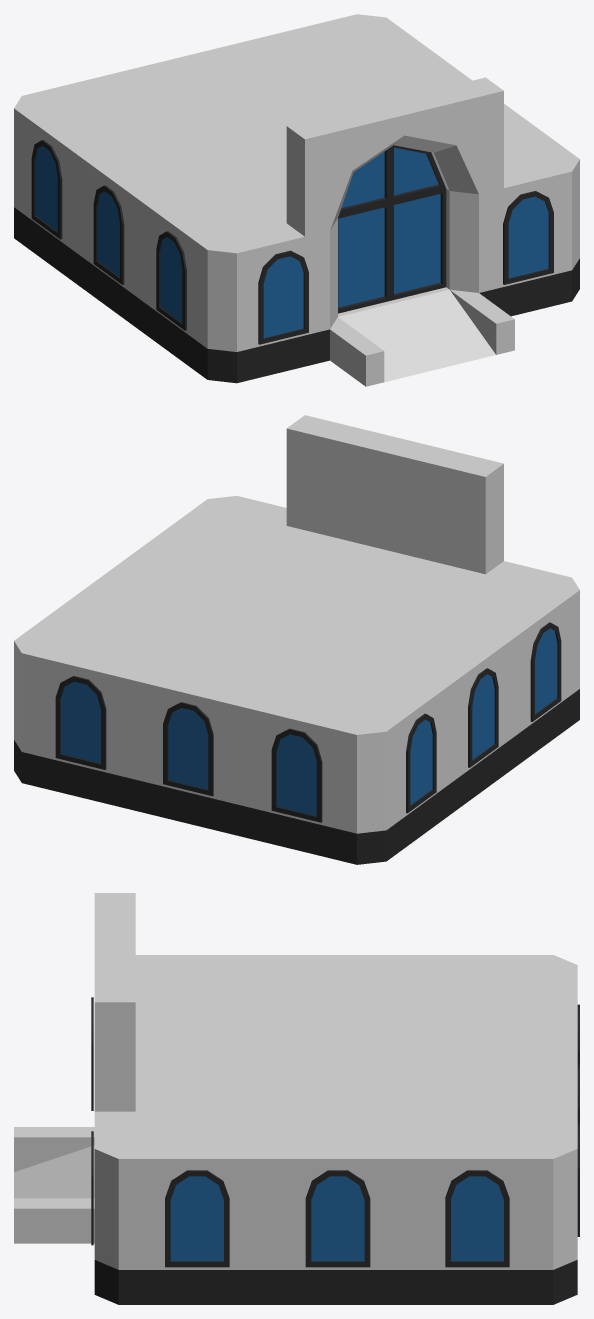
File: tower_base_bottom.FBX
The picture shows the model from 3 angles, top to bottom: view 1: azimuth 30°, elevation 25°; view 2: azimuth 150°, elevation 25°; view 3: azimuth 270°, elevation 25°; orthographic projection. The views are drawn at different scales.
Visible parts, largest first — view 1: tower_base; view 2: tower_base; view 3: tower_base.
Boxes of the visible parts, x1,y1,x2,y2 form: tower_base: [14, 14, 579, 386]; tower_base: [14, 415, 579, 864]; tower_base: [14, 893, 579, 1304].
Size of the model in its own units: 30785 by 17772 by 35712.
